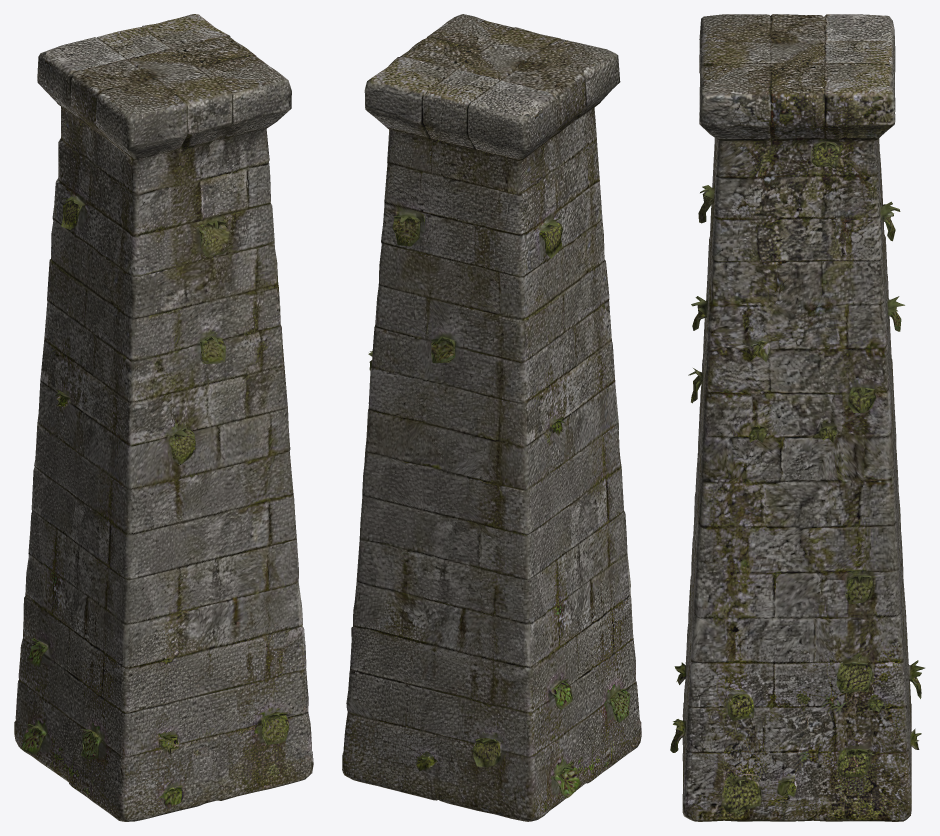
Rendered from viaduct_pier.glb.
3 views of the same model, side by side, from view 1: azimuth 30°, elevation 25°; view 2: azimuth 150°, elevation 25°; view 3: azimuth 270°, elevation 25° (orthographic). The views are drawn at different scales.
Visible parts, largest first — view 1: tripo_node_86614c18-aa64-4415-96ba-2570b3c06508; view 2: tripo_node_86614c18-aa64-4415-96ba-2570b3c06508; view 3: tripo_node_86614c18-aa64-4415-96ba-2570b3c06508.
Part boxes in pixels (x1,y1,x2,y2): tripo_node_86614c18-aa64-4415-96ba-2570b3c06508: (14, 14, 313, 821); tripo_node_86614c18-aa64-4415-96ba-2570b3c06508: (342, 14, 641, 821); tripo_node_86614c18-aa64-4415-96ba-2570b3c06508: (670, 14, 924, 821).
Size of the model in its own units: 3.66 by 11 by 3.53.
1 material, 1 textured.
